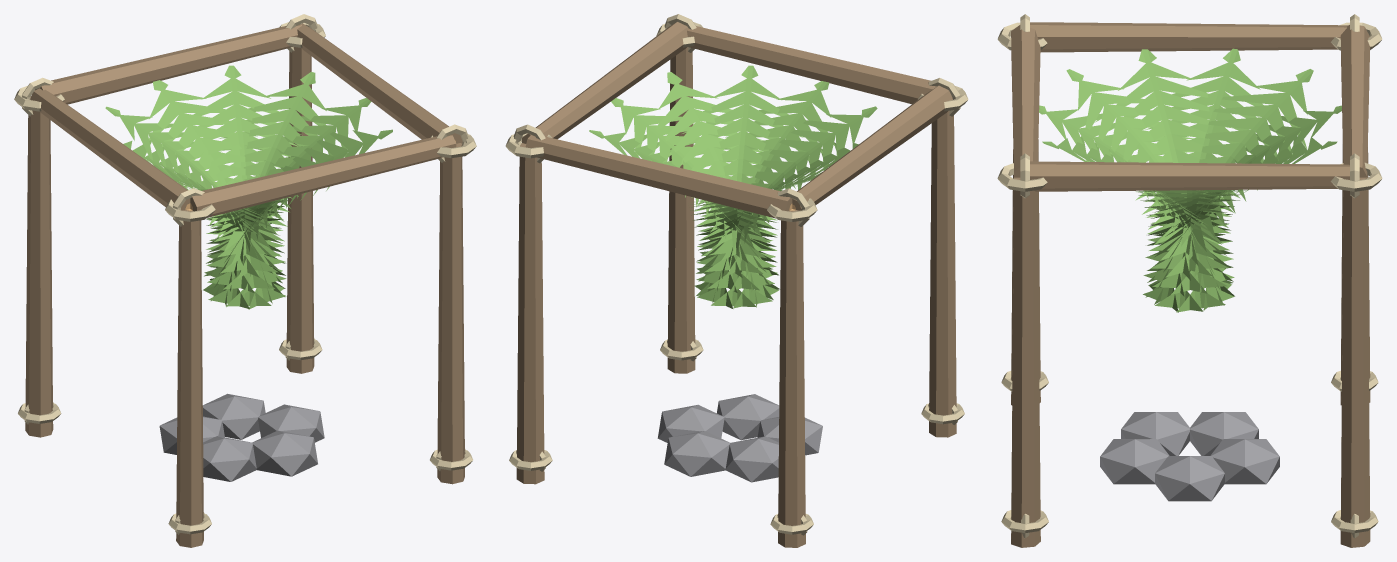
Rendered from water_collector.glb.
3 renders of one model, left to right at view 1: azimuth 30°, elevation 25°; view 2: azimuth 150°, elevation 25°; view 3: azimuth 270°, elevation 25°, orthographic. The views are drawn at different scales.
Visible parts, largest first — view 1: stick_00.002, stick_02.002, stick_01.002, stick_04.002, stick_05.001, leaf_01.002, leaf_02.002, stick_03.002, leaf_03.002, stick_06.001, stick_07.001, leaf_00.002 (+13 smaller); view 2: stick_01.002, stick_03.002, stick_00.002, leaf_09.002, stick_05.001, stick_04.002, stick_02.002, leaf_10.002, stick_06.001, stick_07.001, leaf_08.002, leaf_07.002 (+13 smaller); view 3: stick_02.002, stick_03.002, stick_07.001, stick_06.001, leaf_06.002, leaf_04.002, leaf_05.002, leaf_07.002, stick_05.001, stick_04.002, stone_00, stone_01 (+18 smaller).
Part boxes in pixels (x1,y1,x2,y2): stick_00.002: (176,209,203,547); stick_02.002: (437,143,464,484); stick_01.002: (25,96,53,437); stick_04.002: (190,135,456,217); stick_05.001: (35,24,301,104); leaf_01.002: (206,72,326,309); leaf_02.002: (180,65,302,306); stick_03.002: (286,47,314,373); leaf_03.002: (149,80,286,309); stick_06.001: (30,88,190,210); stick_07.001: (297,23,462,143); leaf_00.002: (203,98,371,305); stick_01.002: (778,209,805,547); stick_03.002: (516,143,544,484); stick_00.002: (929,110,956,437); leaf_09.002: (682,65,803,307); stick_05.001: (525,135,792,218); stick_04.002: (687,26,936,104); stick_02.002: (667,47,695,373); leaf_10.002: (655,72,777,308); stick_06.001: (792,85,952,210); stick_07.001: (522,22,688,143); leaf_08.002: (696,81,835,308); leaf_07.002: (694,106,877,303); stick_02.002: (1011,177,1040,547); stick_03.002: (1340,177,1370,547); stick_07.001: (1030,161,1349,191); stick_06.001: (1030,22,1348,52); leaf_06.002: (1094,49,1232,312); leaf_04.002: (1143,69,1313,312); leaf_05.002: (1145,48,1274,311); leaf_07.002: (1066,69,1234,310); stick_05.001: (1340,25,1370,177); stick_04.002: (1011,25,1040,177); stone_00: (1155,456,1224,501); stone_01: (1210,439,1279,484).
Size of the model in its own units: 0.9327 by 1.05 by 0.9347.
